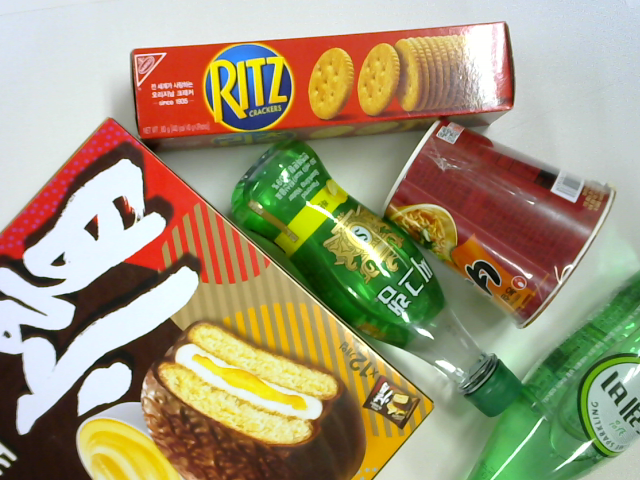Choco_Pie_Banana: (1, 115, 432, 480)
Raccoon: (383, 109, 624, 332)
Ritz_Cracker: (116, 12, 522, 154)
Seagram_Lemon_Carbonated_Water: (218, 136, 527, 426)
Treviraim_500ml: (441, 262, 637, 480)
